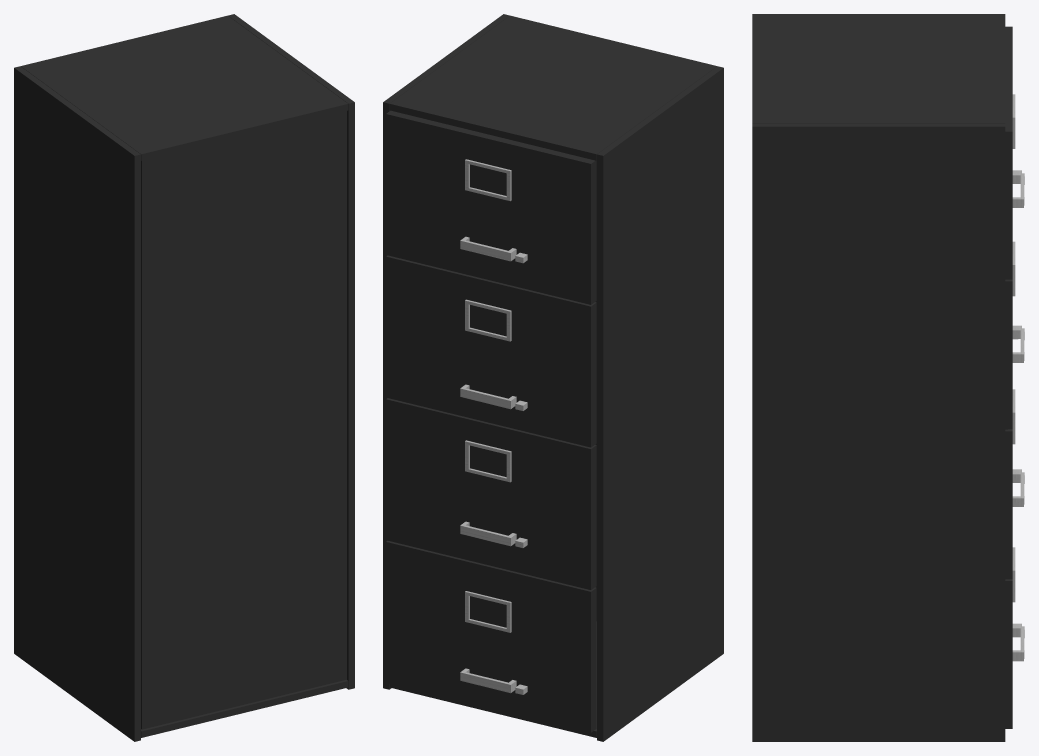
Rendered from OfficeFileCabinet_01.glb.
3 views of the same model, side by side, from view 1: azimuth 30°, elevation 25°; view 2: azimuth 150°, elevation 25°; view 3: azimuth 270°, elevation 25° (orthographic). The views are drawn at different scales.
Parts seen in each view (by area): view 1: geom-OfficeFileCabinetOne300, geom-OfficeFileCabinetOne300_5; view 2: geom-OfficeFileCabinetOne300, geom-OfficeFileCabinetOne300_6, geom-OfficeFileCabinetOne300_7, geom-OfficeFileCabinetOne300_8; view 3: geom-OfficeFileCabinetOne300, geom-OfficeFileCabinetOne300_6, geom-OfficeFileCabinetOne300_8.
Boxes of the visible parts, left/top/right/bottom form: geom-OfficeFileCabinetOne300: left=14, top=14, right=354, bottom=741; geom-OfficeFileCabinetOne300_5: left=141, top=161, right=141, bottom=729; geom-OfficeFileCabinetOne300: left=383, top=14, right=723, bottom=741; geom-OfficeFileCabinetOne300_6: left=460, top=159, right=527, bottom=694; geom-OfficeFileCabinetOne300_7: left=465, top=160, right=523, bottom=694; geom-OfficeFileCabinetOne300_8: left=460, top=236, right=516, bottom=684; geom-OfficeFileCabinetOne300: left=752, top=14, right=1012, bottom=741; geom-OfficeFileCabinetOne300_6: left=1012, top=94, right=1024, bottom=661; geom-OfficeFileCabinetOne300_8: left=1012, top=173, right=1024, bottom=652.
Size of the model in its own units: 2.14 by 5.45 by 2.18.
Materials: 2 (2 with a texture image).
